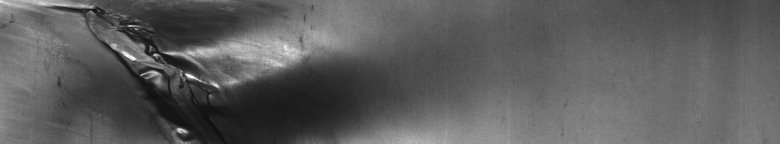ke: (38, 4, 286, 136)
